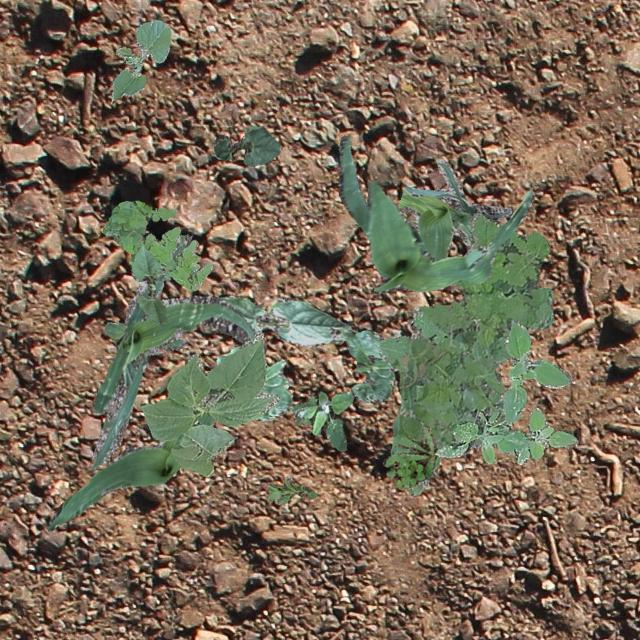crop: (92, 232, 266, 468), (338, 134, 534, 294), (140, 330, 278, 476), (44, 412, 214, 530), (398, 158, 510, 258), (216, 294, 356, 346), (216, 344, 290, 420), (110, 19, 170, 100), (344, 329, 394, 402), (130, 244, 166, 324), (212, 126, 280, 164)
weed: (377, 212, 552, 494), (434, 318, 576, 464), (101, 200, 210, 290), (104, 316, 184, 371), (290, 390, 352, 450), (382, 424, 436, 488), (450, 398, 502, 448), (264, 476, 316, 504)
